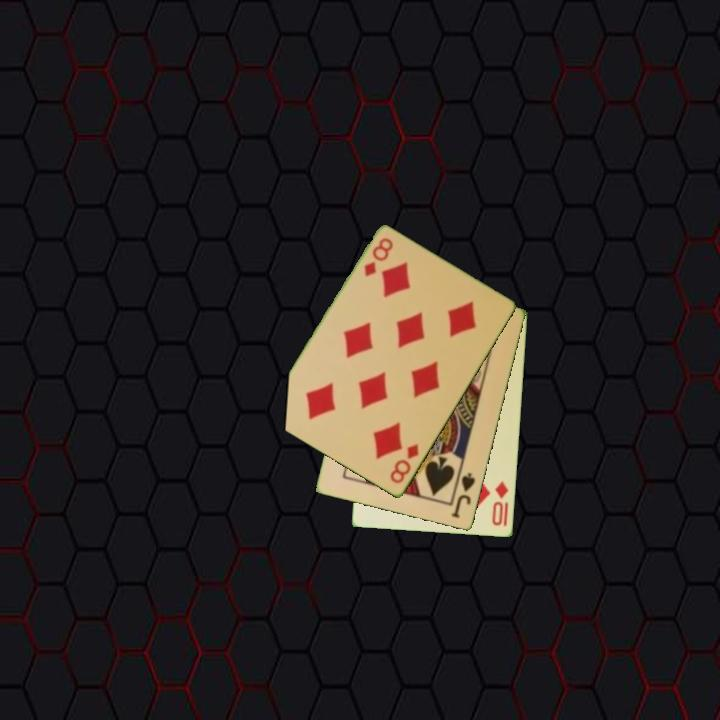10d: (488, 478, 512, 529)
8d: (386, 441, 422, 487), (361, 234, 396, 280)
Js: (448, 470, 478, 521)
